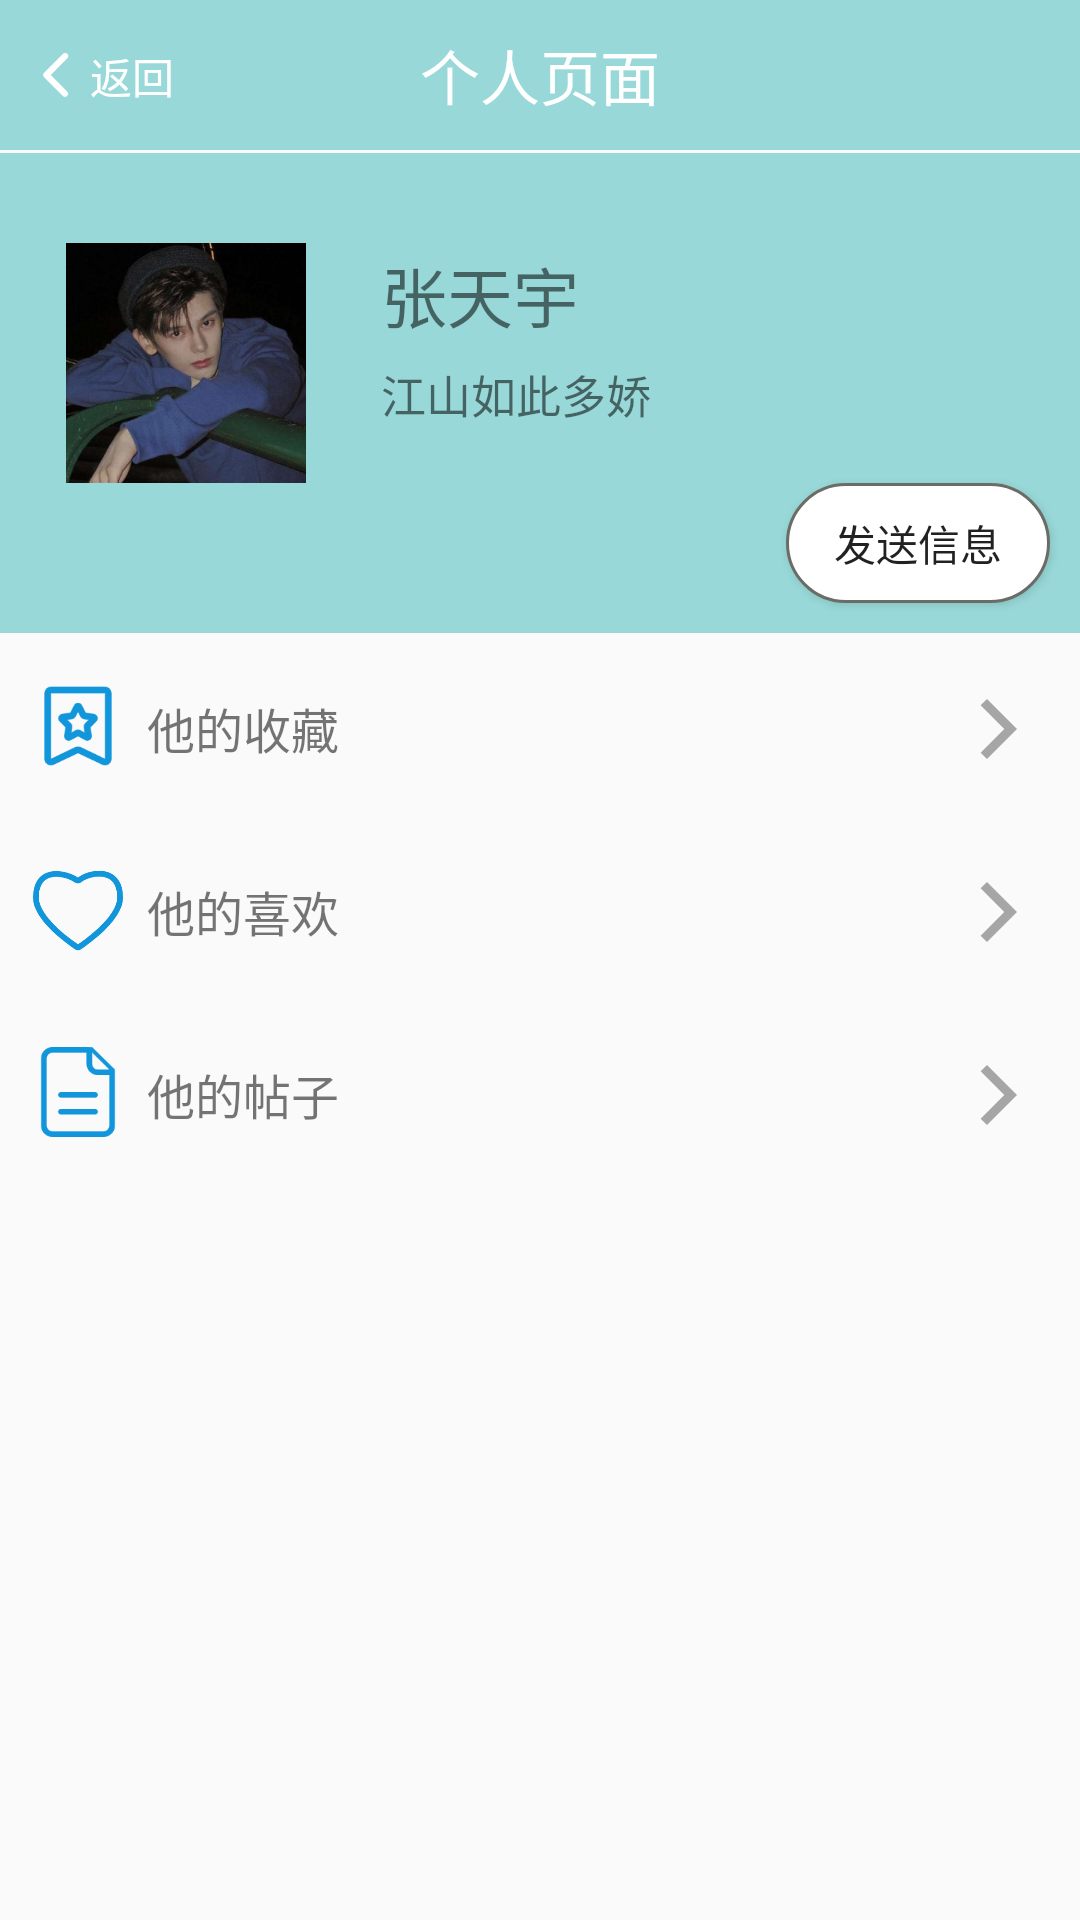

Screen size 1080w x 1920h. Icon name, then its center in pixels as (x=x, y=y):
collection: (x=78, y=726)
mine love: (x=78, y=911)
text: (x=78, y=1092)
